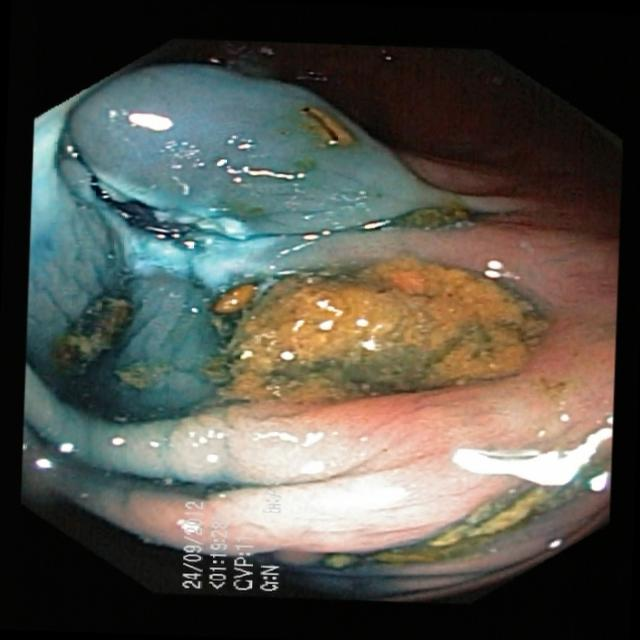dyed-resection-margins: (193, 241, 551, 421), (321, 461, 594, 581), (42, 276, 133, 388), (282, 94, 377, 168), (390, 192, 493, 238)
